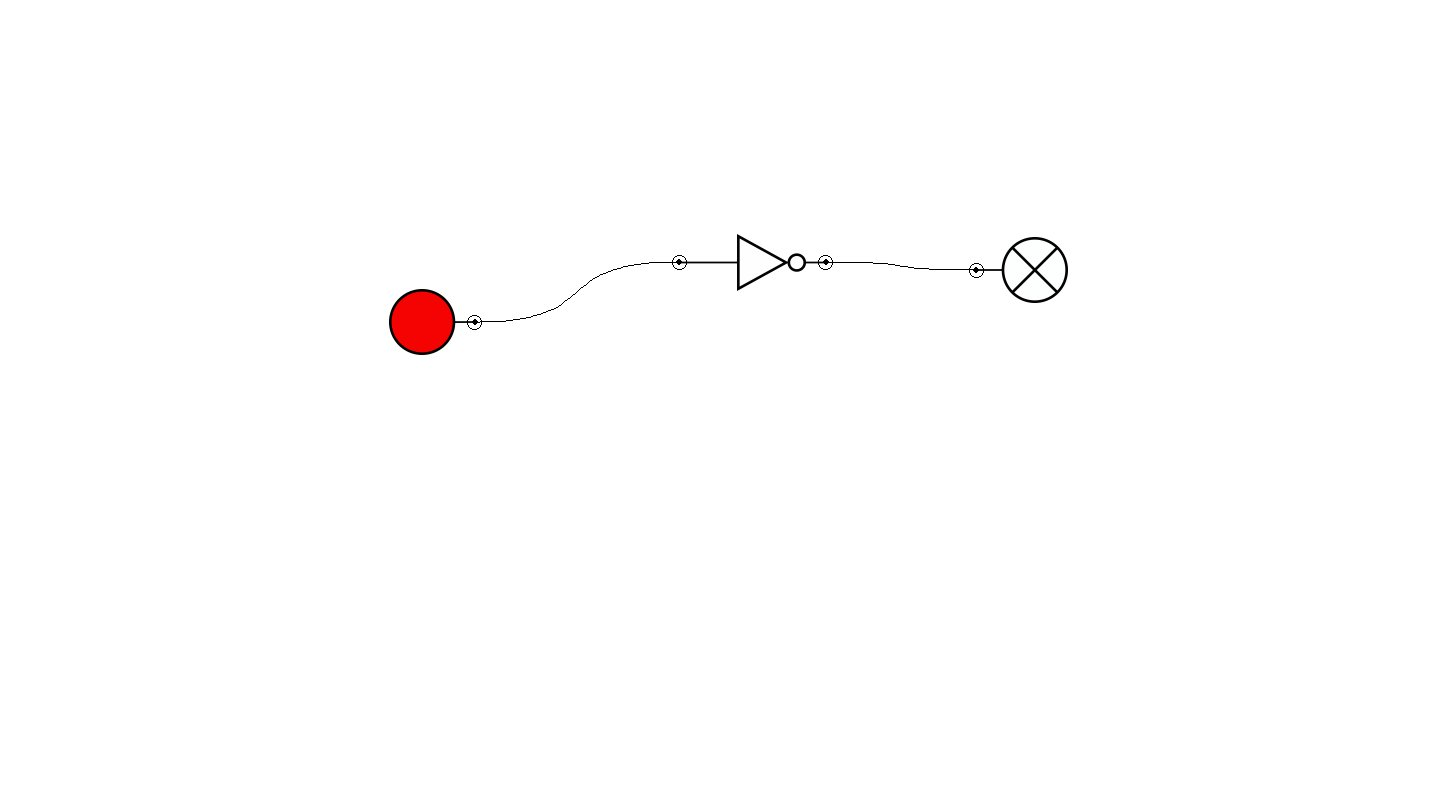bulb: (969, 237, 1068, 303)
not: (672, 234, 833, 291)
switch_False: (389, 289, 482, 355)
